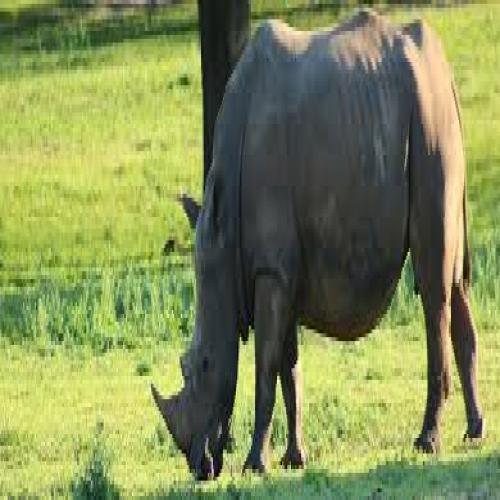rhino-endangered: (149, 5, 483, 485)
